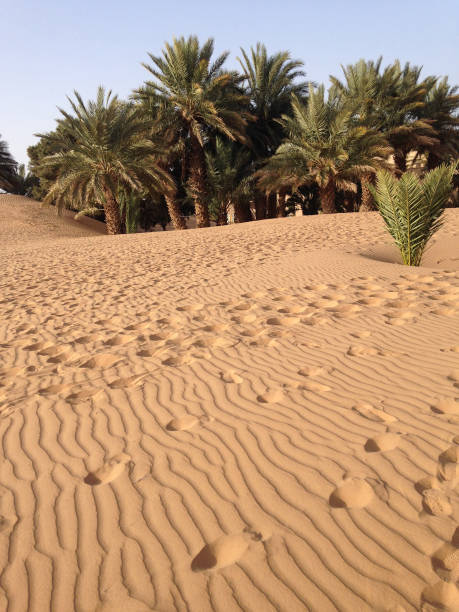human_footprint: (415, 439, 458, 516), (191, 529, 262, 571), (431, 527, 458, 582), (84, 453, 130, 485), (329, 477, 373, 508), (421, 580, 458, 611), (352, 401, 396, 423), (438, 444, 458, 486), (421, 489, 452, 515), (166, 414, 213, 431), (364, 430, 400, 452), (65, 385, 102, 403), (78, 353, 122, 368), (283, 378, 330, 392), (108, 373, 148, 389), (191, 335, 233, 347), (414, 475, 440, 494), (431, 397, 458, 414), (38, 382, 73, 395), (161, 353, 194, 366), (256, 387, 284, 402), (298, 365, 331, 377), (104, 334, 135, 346), (347, 344, 378, 356), (23, 341, 54, 352), (266, 316, 300, 326), (0, 514, 17, 533), (220, 370, 243, 383), (176, 302, 203, 312), (350, 330, 371, 338), (447, 369, 458, 382)
